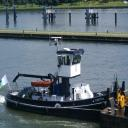tugboat: (5, 37, 128, 121)
